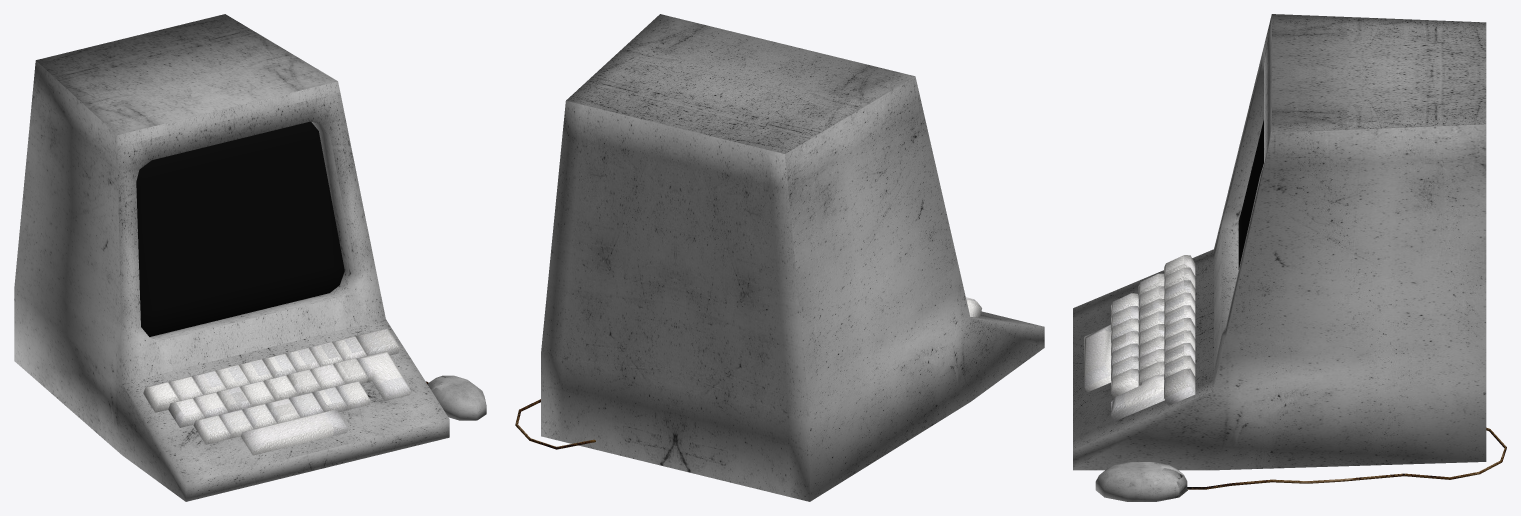
File: Terminal.fbx
3 renders of one model, left to right at view 1: azimuth 30°, elevation 25°; view 2: azimuth 150°, elevation 25°; view 3: azimuth 270°, elevation 25°, orthographic. The views are drawn at different scales.
Parts seen in each view (by area): view 1: Terminal, Terminal_001, Keys, Mouse; view 2: Terminal; view 3: Terminal, Keys, Mouse, Terminal_001, Lead.
Part boxes in pixels (bbox=[...]): Terminal: bbox=[14, 14, 449, 501]; Terminal_001: bbox=[136, 121, 344, 336]; Keys: bbox=[143, 328, 411, 455]; Mouse: bbox=[427, 375, 486, 420]; Terminal: bbox=[541, 14, 1044, 501]; Terminal: bbox=[1073, 14, 1486, 470]; Keys: bbox=[1084, 255, 1195, 421]; Mouse: bbox=[1095, 462, 1187, 501]; Terminal_001: bbox=[1238, 120, 1263, 269]; Lead: bbox=[1187, 427, 1506, 489].
Size of the model in its own units: 303 by 264 by 319.
